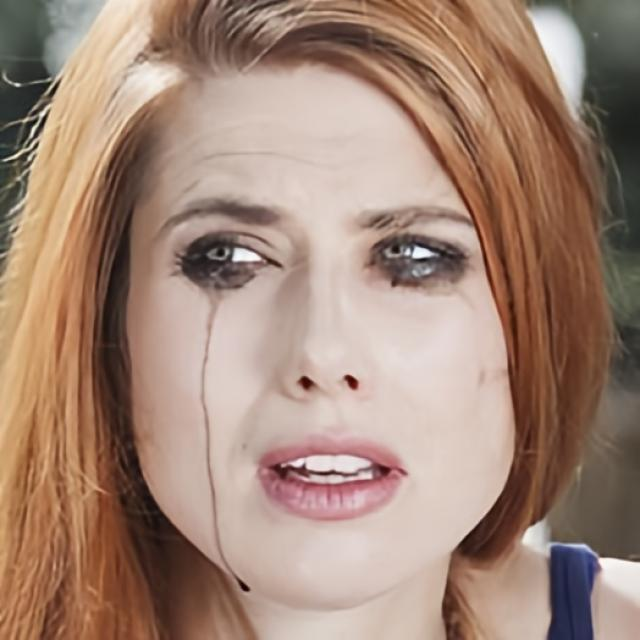disgust: (120, 64, 518, 608)
